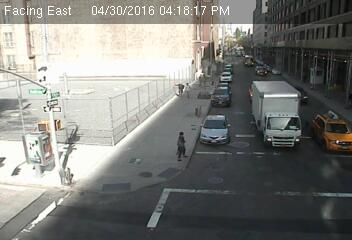neg: (70, 146, 97, 183), (324, 115, 348, 147), (106, 125, 125, 151), (200, 120, 213, 137), (278, 62, 290, 78), (214, 67, 224, 80)
pos: (171, 134, 194, 164)
